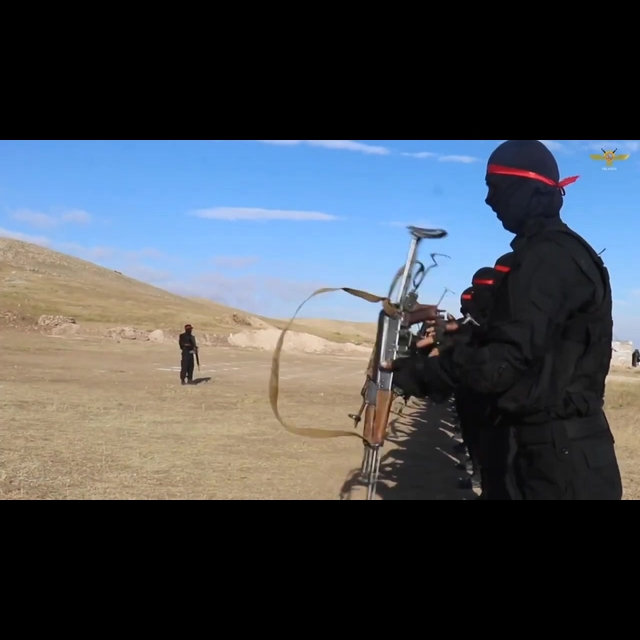AK47: (358, 308, 404, 500)
